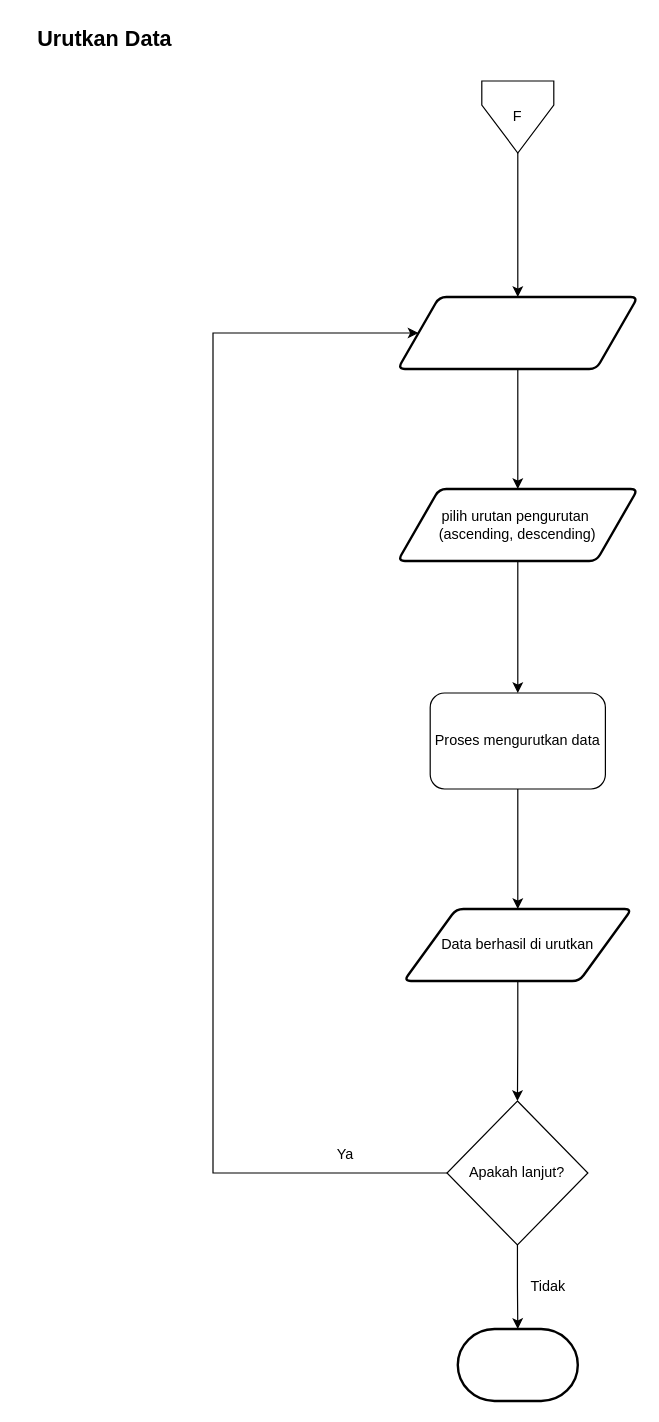
Some shapes in this 659 by 1422 pixel diagram are drawn without their labels. The centre of each missing label's shape, as x and y in pixels:
"masukkan nama kolom yang di urutkan" goes at pixel 517 332.
"Selesai" goes at pixel 517 1364.
